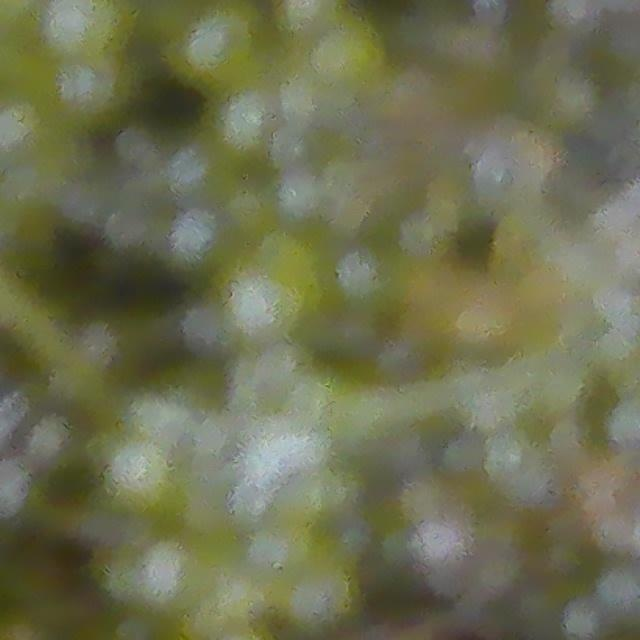SeaGrape: (159, 0, 264, 96), (0, 95, 78, 209), (100, 427, 189, 514), (224, 258, 309, 345), (141, 531, 219, 615), (47, 0, 121, 75)
